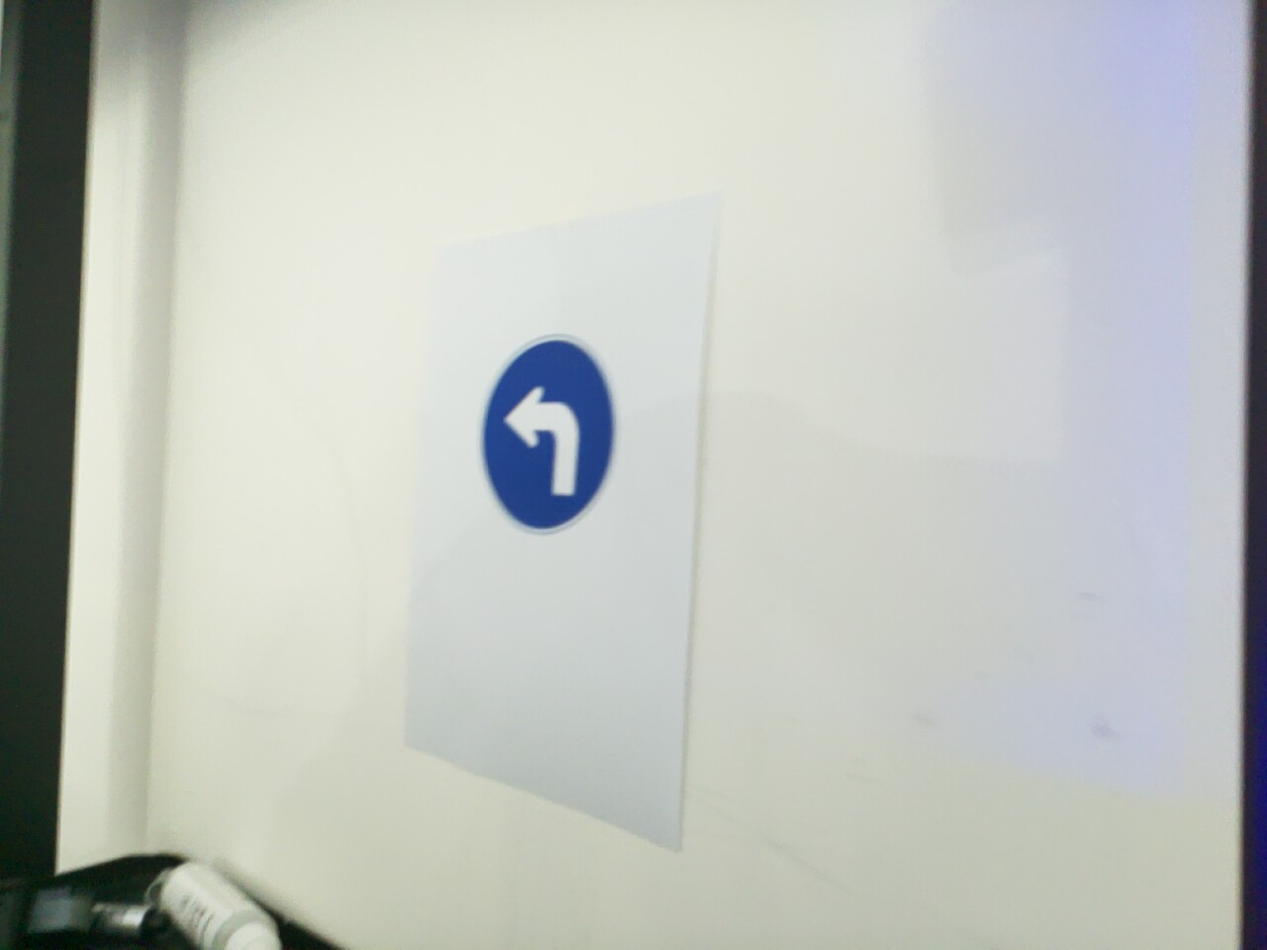left_turn: (477, 333, 620, 536)
